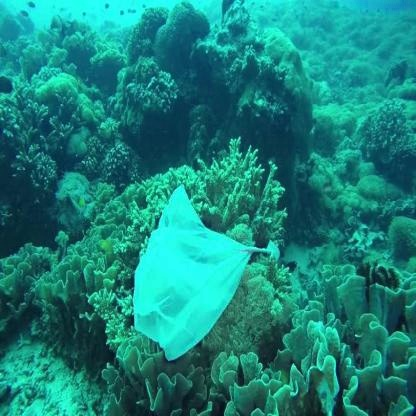pbag: (133, 184, 280, 360)
